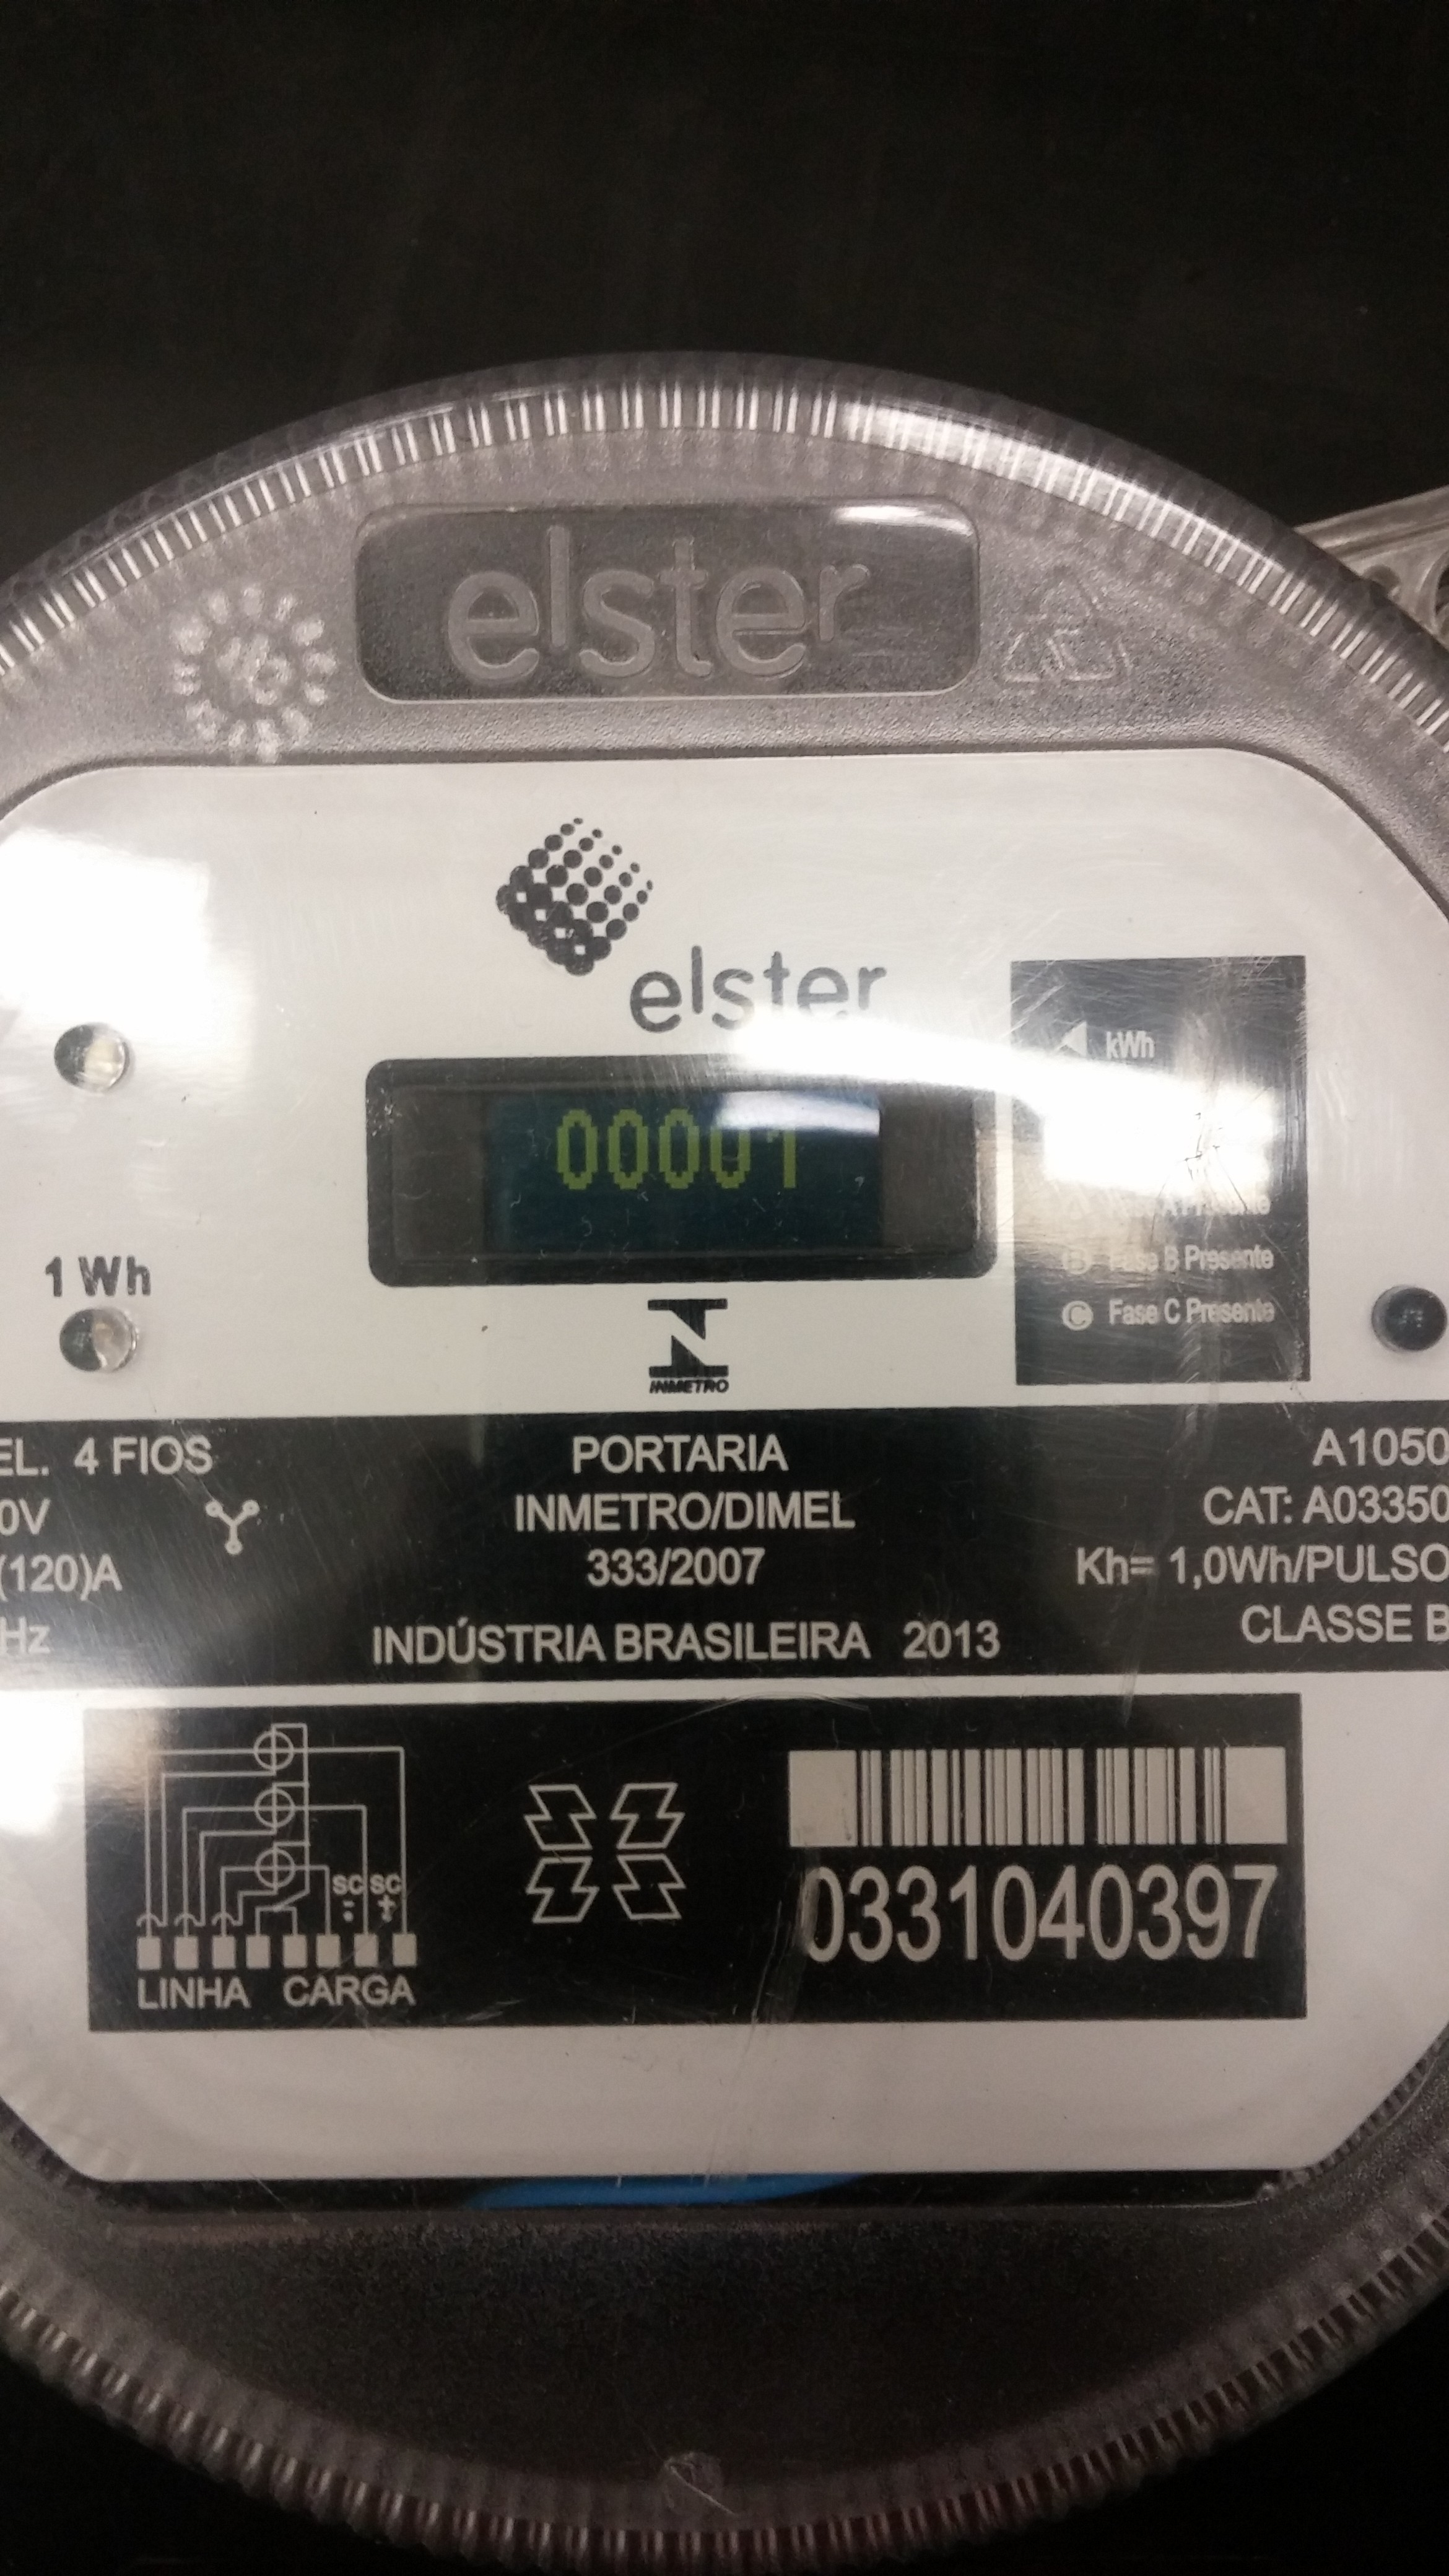counter: (329, 1042, 1016, 1300)
